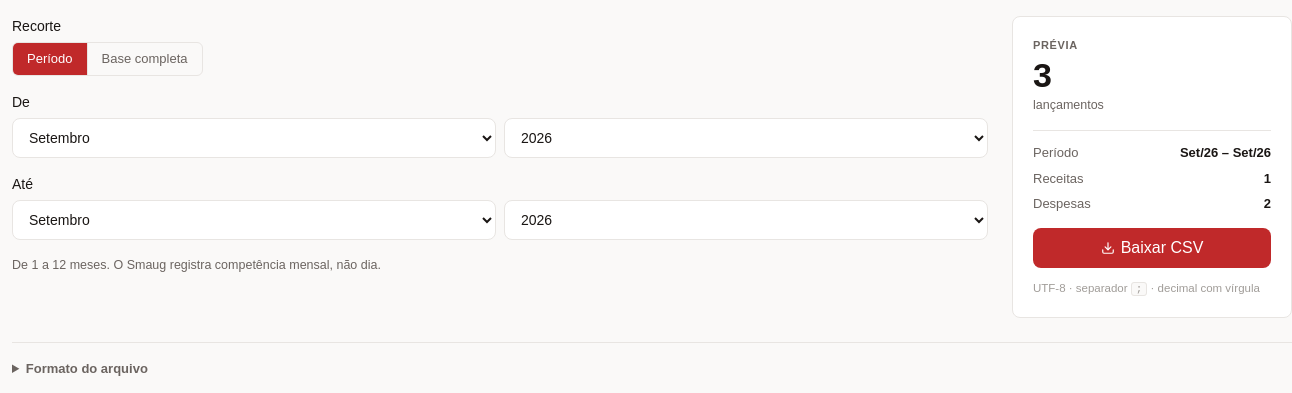
ExportPanel › acusa período invertido
Select "Março" in the dropdown named "Até — mês" at (254, 220), box [12, 200, 496, 240]
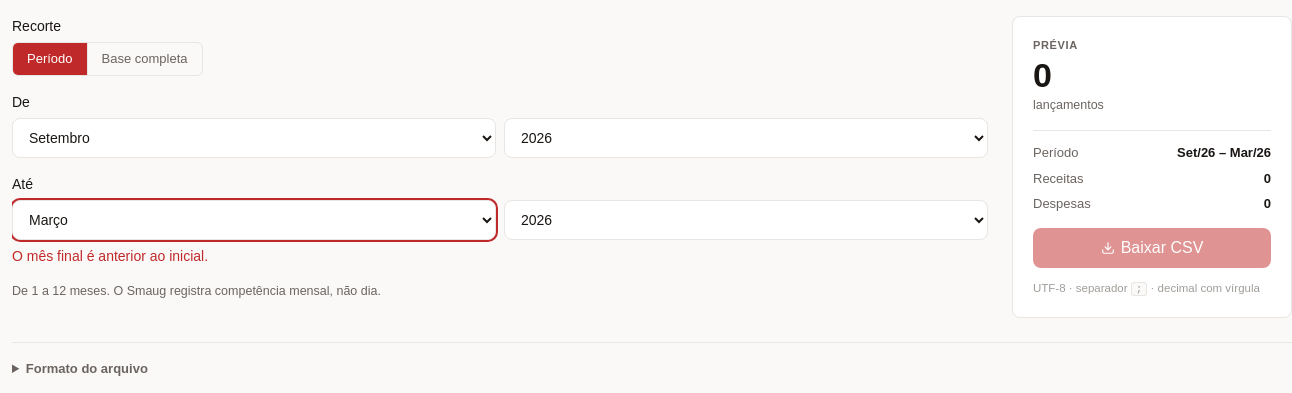
expect the text "O mês final é anterior ao inicial." is shown: met, box [12, 248, 208, 264]
